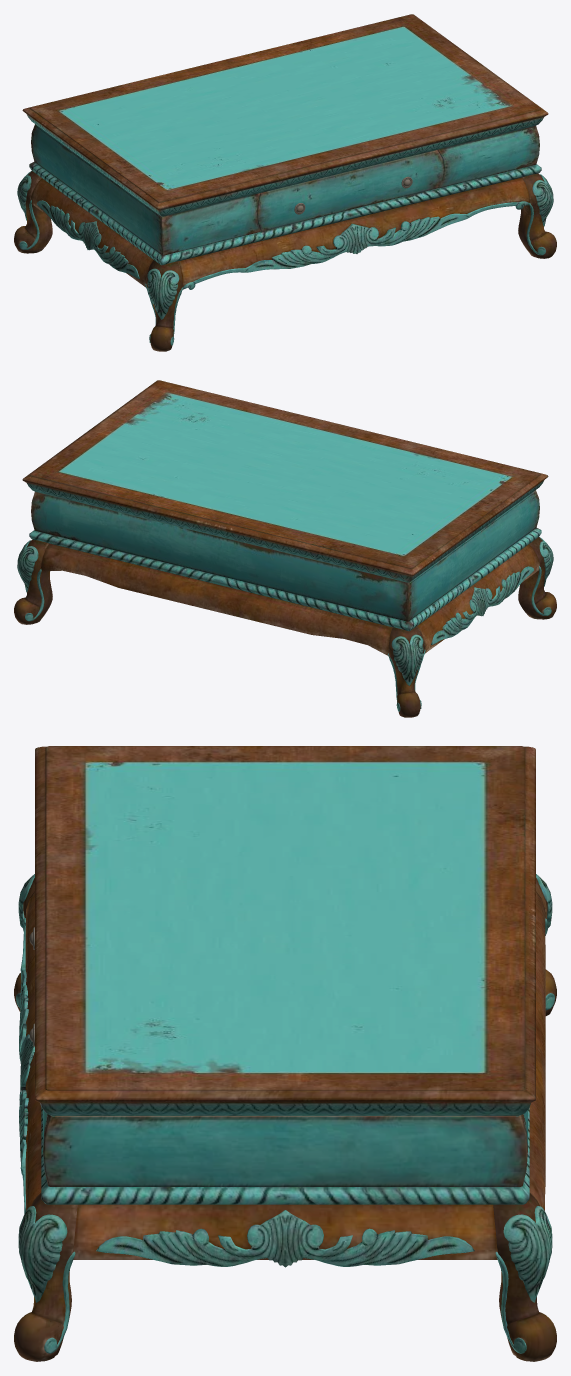
Rendered from CoffeeTable_01.glb.
The picture shows the model from 3 angles, top to bottom: view 1: azimuth 30°, elevation 25°; view 2: azimuth 150°, elevation 25°; view 3: azimuth 270°, elevation 25°; orthographic projection. The views are drawn at different scales.
Visible parts, largest first — view 1: CoffeeTable_01; view 2: CoffeeTable_01; view 3: CoffeeTable_01.
Part boxes in pixels (bbox=[...]): CoffeeTable_01: bbox=[14, 14, 556, 351]; CoffeeTable_01: bbox=[14, 380, 556, 717]; CoffeeTable_01: bbox=[14, 746, 556, 1361].
Bounding box in the file's own units: 1.54 × 0.5232 × 0.9728.
1 material, 1 textured.
